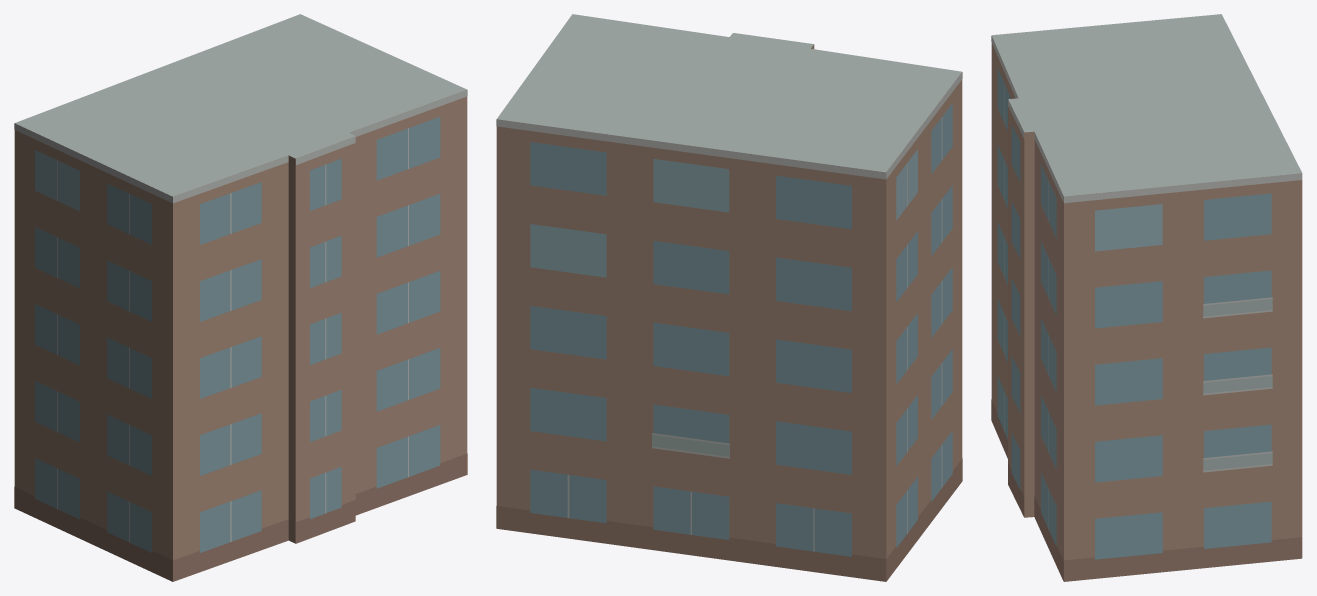
The model's file is survey-upis-32928091.glb.
3 views of the same model, side by side, from view 1: azimuth 30°, elevation 25°; view 2: azimuth 150°, elevation 25°; view 3: azimuth 270°, elevation 25° (orthographic). The views are drawn at different scales.
Visible parts, largest first — view 1: survey-upis-32928091.tmp; view 2: survey-upis-32928091.tmp; view 3: survey-upis-32928091.tmp.
Boxes of the visible parts, x1,y1,x2,y2 form: survey-upis-32928091.tmp: (14,14,467,581); survey-upis-32928091.tmp: (496,14,962,581); survey-upis-32928091.tmp: (991,14,1302,581).
Bounding box in the file's own units: 14.34 × 14.1 × 10.32.
